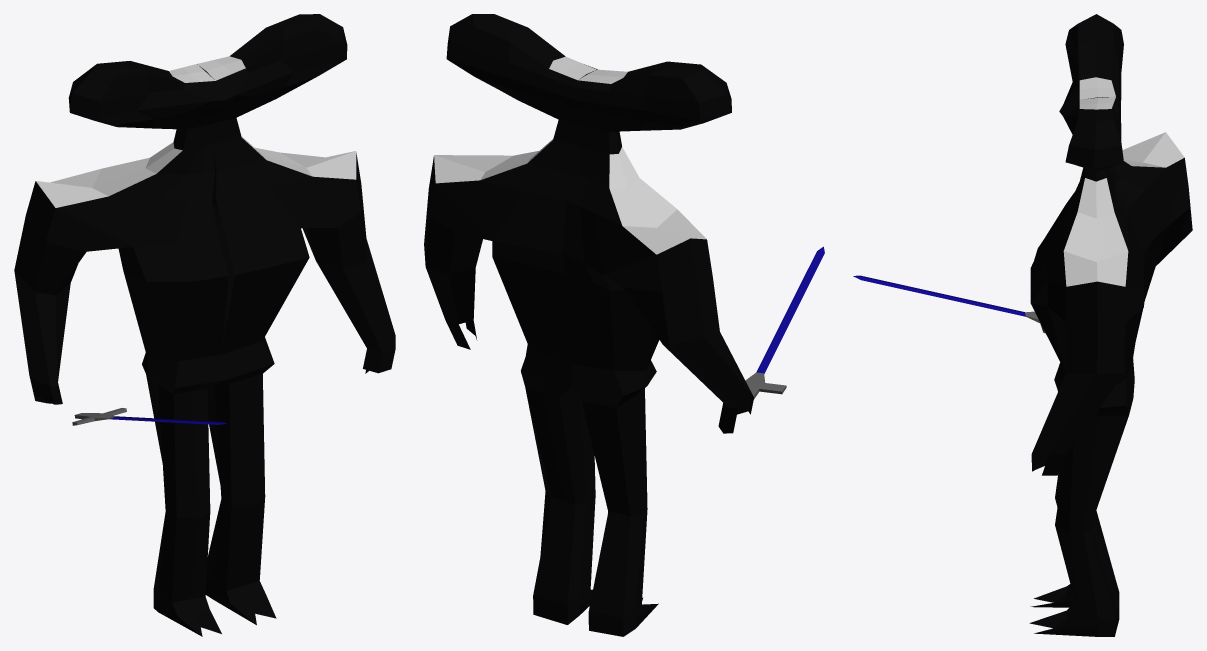
Rendered from Swordsman1a.obj.
The picture shows the model from 3 angles, left to right: view 1: azimuth 30°, elevation 25°; view 2: azimuth 150°, elevation 25°; view 3: azimuth 270°, elevation 25°; orthographic projection. The views are drawn at different scales.
Visible parts, largest first — view 1: Cube, Plane; view 2: Cube, Plane; view 3: Cube, Plane.
Part boxes in pixels (box(x1,y1,x2,y2)): Cube: box(14, 14, 395, 636); Plane: box(72, 408, 226, 425); Cube: box(424, 14, 753, 636); Plane: box(745, 246, 824, 399); Cube: box(1029, 14, 1192, 636); Plane: box(853, 275, 1045, 333).
Bounding box in the file's own units: 1.01 × 1.63 × 0.9118.
